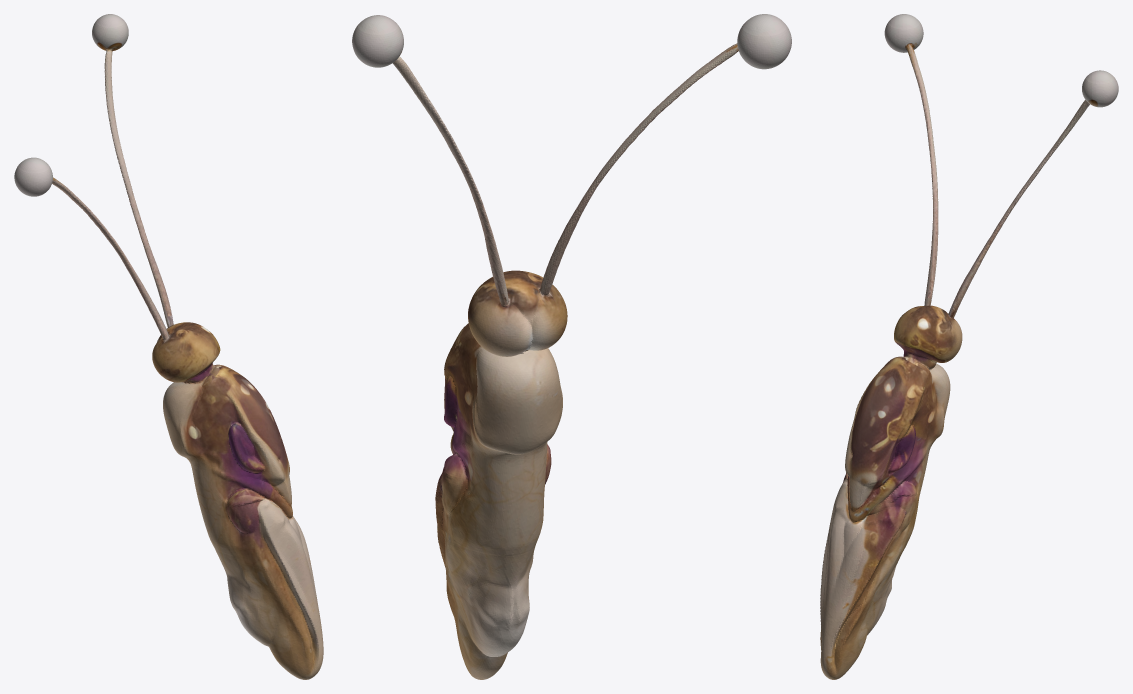
3 views of the same model, side by side, from view 1: azimuth 30°, elevation 25°; view 2: azimuth 150°, elevation 25°; view 3: azimuth 270°, elevation 25° (orthographic). The views are drawn at different scales.
Visible parts, largest first — view 1: tripo_node_06358e3a-d881-450e-bf3c-2f37d33693df; view 2: tripo_node_06358e3a-d881-450e-bf3c-2f37d33693df; view 3: tripo_node_06358e3a-d881-450e-bf3c-2f37d33693df.
Part boxes in pixels (left/top/right/bottom): tripo_node_06358e3a-d881-450e-bf3c-2f37d33693df: left=14, top=14, right=323, bottom=679; tripo_node_06358e3a-d881-450e-bf3c-2f37d33693df: left=352, top=14, right=791, bottom=679; tripo_node_06358e3a-d881-450e-bf3c-2f37d33693df: left=820, top=14, right=1118, bottom=679.
Size of the model in its own units: 0.485 by 1 by 0.4685.
1 material, 1 textured.
